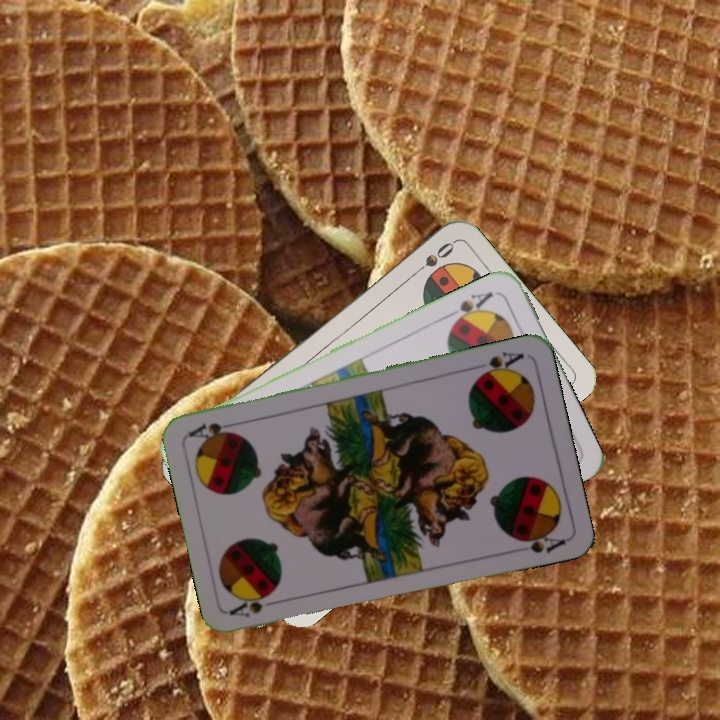SA: (443, 287, 496, 329), (469, 347, 527, 381), (226, 590, 285, 620)
SO: (407, 238, 457, 280)
